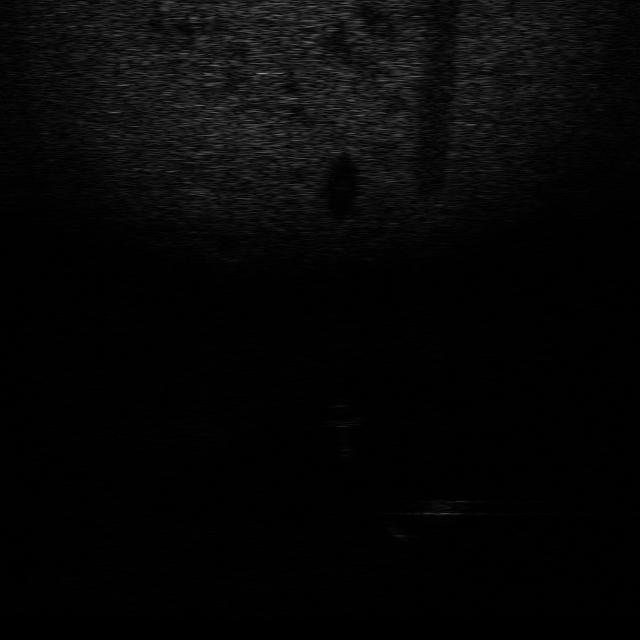ball: (318, 398, 368, 431)
metal bucket: (375, 516, 421, 548)
tyre: (412, 481, 472, 520)
